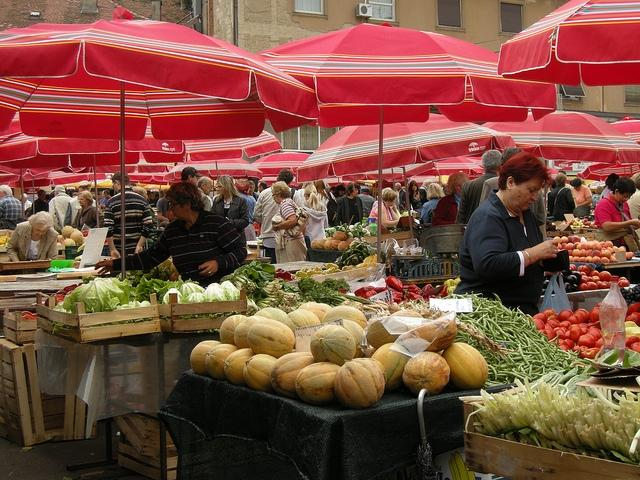green bean: (479, 308, 503, 318), (486, 318, 496, 340), (511, 372, 532, 382), (522, 332, 531, 351), (504, 351, 530, 357), (492, 310, 498, 332), (512, 310, 518, 325), (554, 342, 563, 350), (532, 368, 543, 373), (523, 352, 540, 355), (491, 306, 495, 318), (508, 336, 518, 340), (523, 324, 529, 330), (506, 347, 509, 349)
lettuce: (62, 278, 124, 314), (130, 274, 198, 304), (178, 292, 210, 319), (250, 263, 276, 273), (350, 228, 360, 238)
peach: (334, 358, 384, 408), (282, 310, 322, 338), (602, 250, 611, 259), (592, 250, 602, 258), (572, 249, 580, 257), (560, 237, 568, 244), (586, 250, 594, 257), (579, 250, 587, 257), (606, 241, 614, 248), (610, 256, 618, 262), (594, 241, 600, 243)
tomato: (578, 333, 598, 348), (573, 308, 590, 324), (569, 324, 583, 343), (558, 309, 575, 322), (626, 312, 640, 327), (542, 309, 558, 321), (533, 312, 548, 324), (589, 307, 599, 323), (586, 328, 602, 338), (598, 271, 612, 282), (534, 318, 546, 330), (566, 314, 580, 324), (544, 329, 554, 340), (631, 342, 640, 353), (558, 344, 570, 350), (588, 326, 600, 330), (558, 328, 568, 332)
